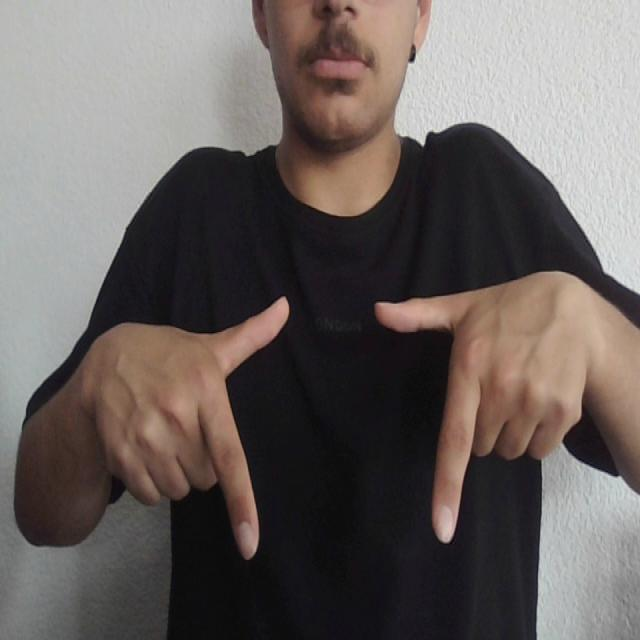Nerede: (190, 279, 492, 565)
